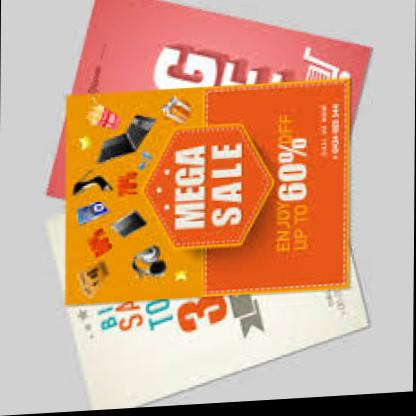Paper: (10, 0, 416, 410)
